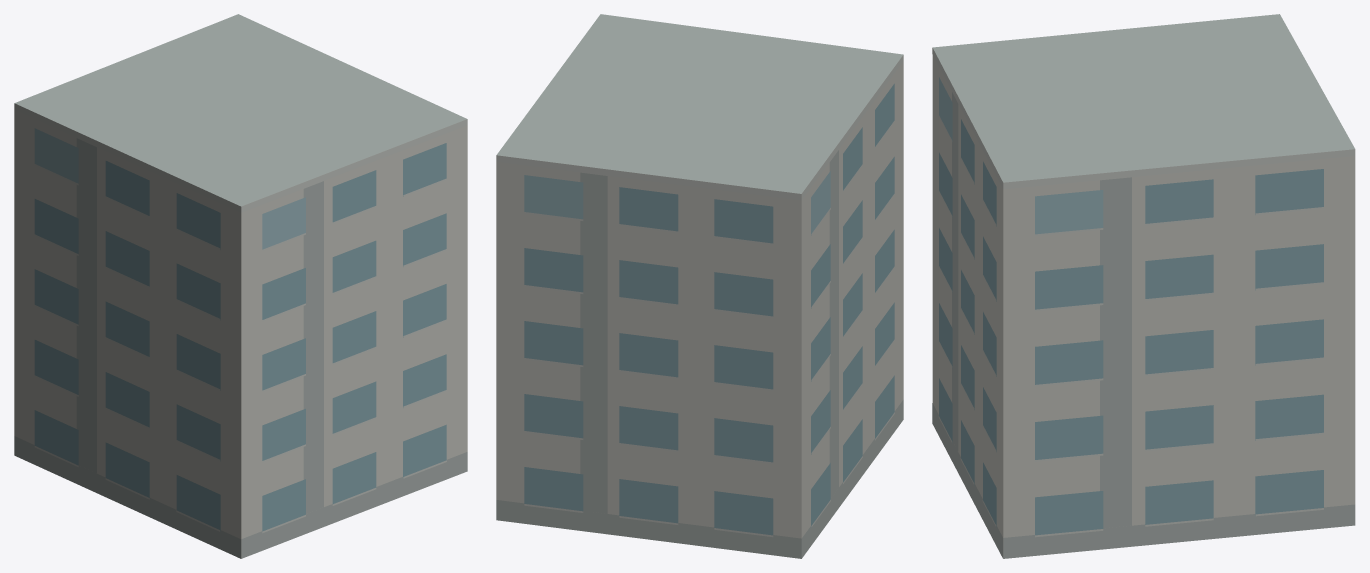
File: survey-upis-32675886.glb
3 views of the same model, side by side, from view 1: azimuth 30°, elevation 25°; view 2: azimuth 150°, elevation 25°; view 3: azimuth 270°, elevation 25° (orthographic). The views are drawn at different scales.
Visible parts, largest first — view 1: survey-upis-32675886.tmp; view 2: survey-upis-32675886.tmp; view 3: survey-upis-32675886.tmp.
Part boxes in pixels (x1=…): survey-upis-32675886.tmp: x1=14, y1=14, x2=467, y2=558; survey-upis-32675886.tmp: x1=496, y1=14, x2=903, y2=558; survey-upis-32675886.tmp: x1=932, y1=14, x2=1355, y2=558.
Bounding box in the file's own units: 12.79 × 13.3 × 13.56.
